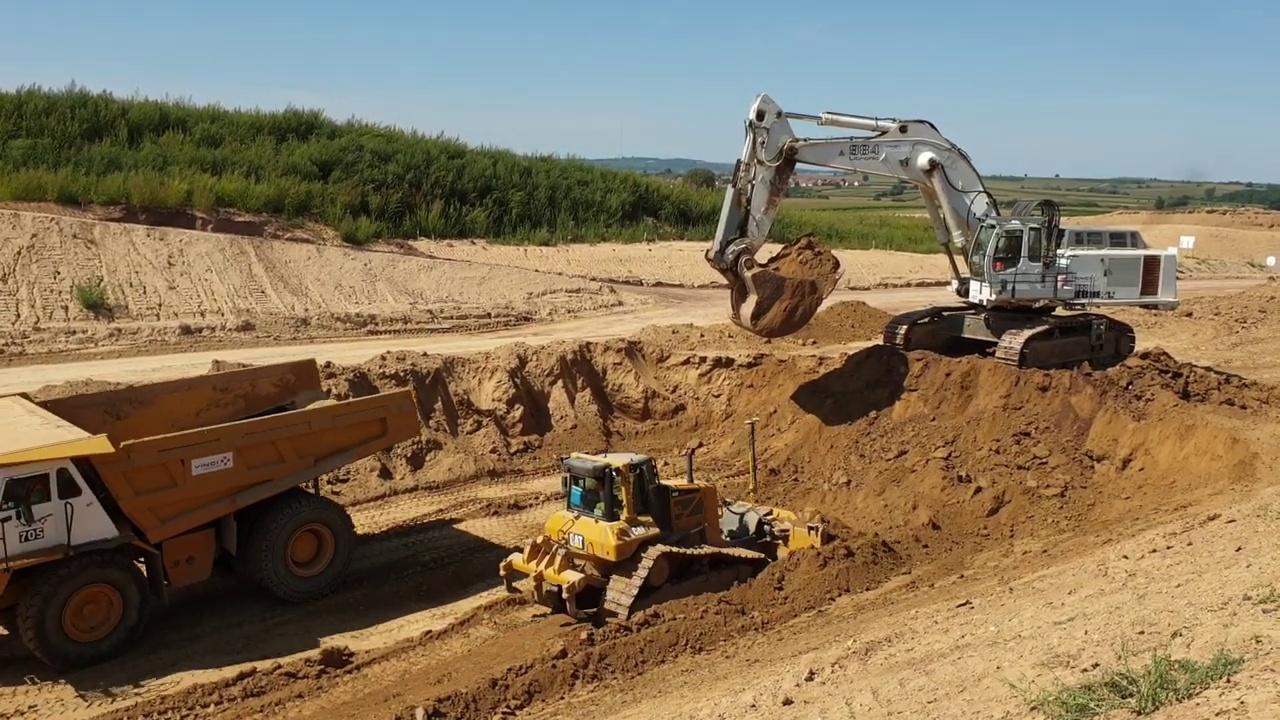bulldozer: (498, 414, 833, 624)
excavator: (692, 90, 1187, 372)
truck: (6, 357, 433, 681)
